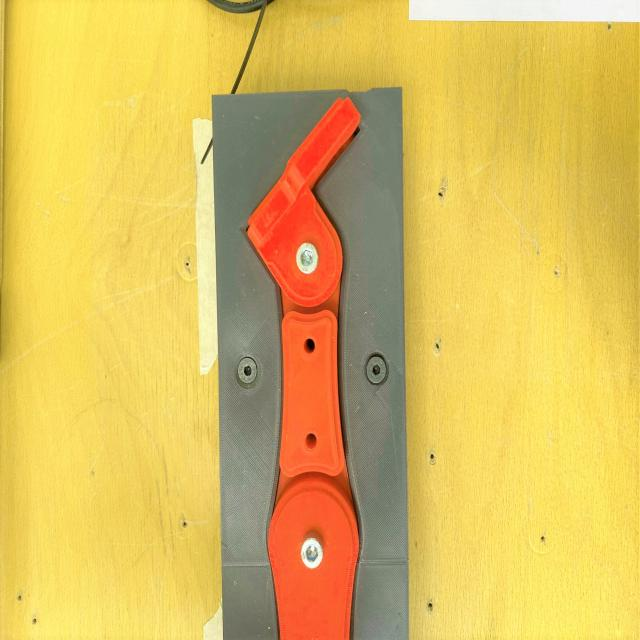HexScrew: (297, 243, 318, 274), (301, 540, 323, 568), (237, 357, 258, 384), (367, 355, 386, 384)
